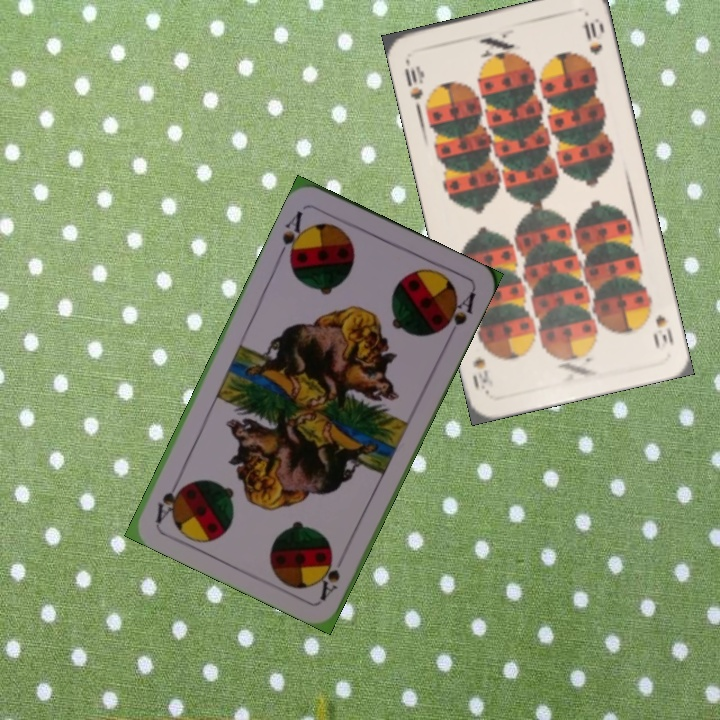S10: (642, 296, 677, 354), (400, 55, 426, 103)
SA: (274, 206, 310, 264), (315, 551, 343, 603)
